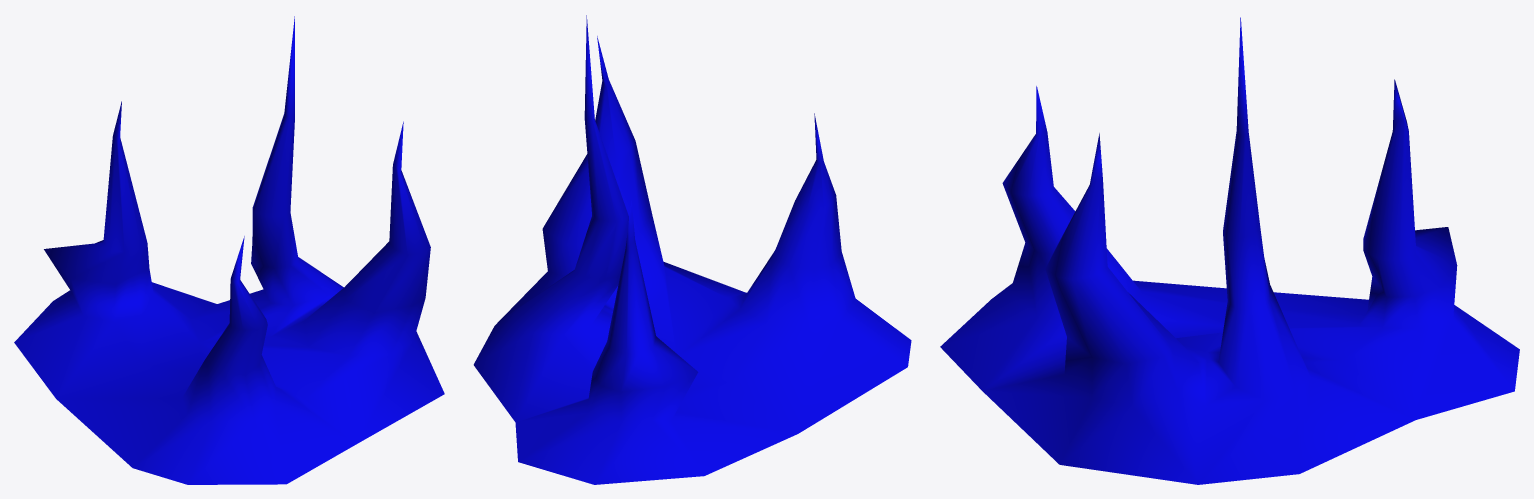
The model's file is Spike07_mesh.fbx.
3 views of the same model, side by side, from view 1: azimuth 30°, elevation 25°; view 2: azimuth 150°, elevation 25°; view 3: azimuth 270°, elevation 25° (orthographic). The views are drawn at different scales.
Visible parts, largest first — view 1: Spike07_mesh; view 2: Spike07_mesh; view 3: Spike07_mesh.
Boxes of the visible parts, x1,y1,x2,y2 form: Spike07_mesh: (14,16,444,484); Spike07_mesh: (473,15,911,484); Spike07_mesh: (940,17,1519,484).
Bounding box in the file's own units: 2.58 × 2.46 × 3.15.
